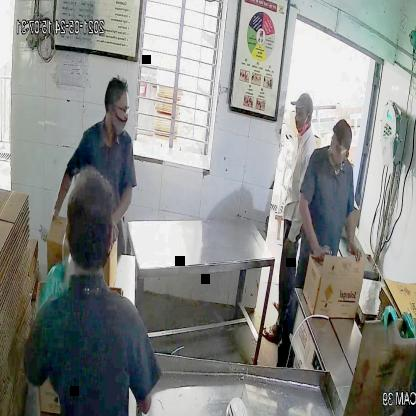goggles: (328, 136, 352, 158), (106, 101, 133, 120)
